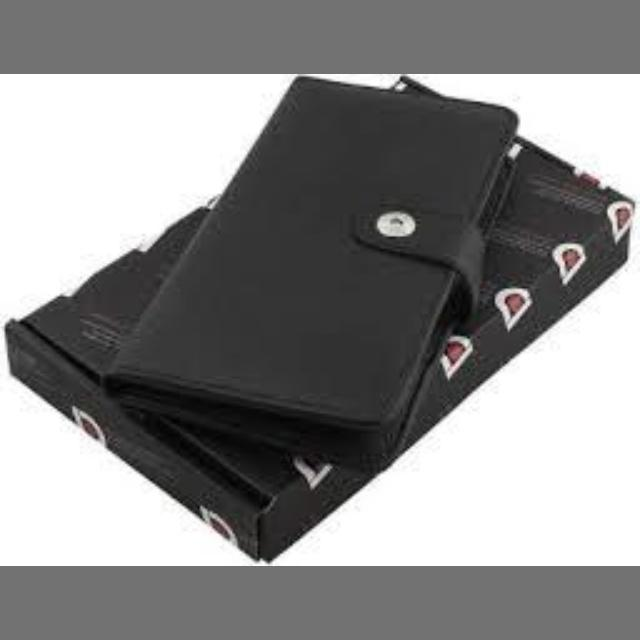Wallet: (101, 74, 539, 470)
